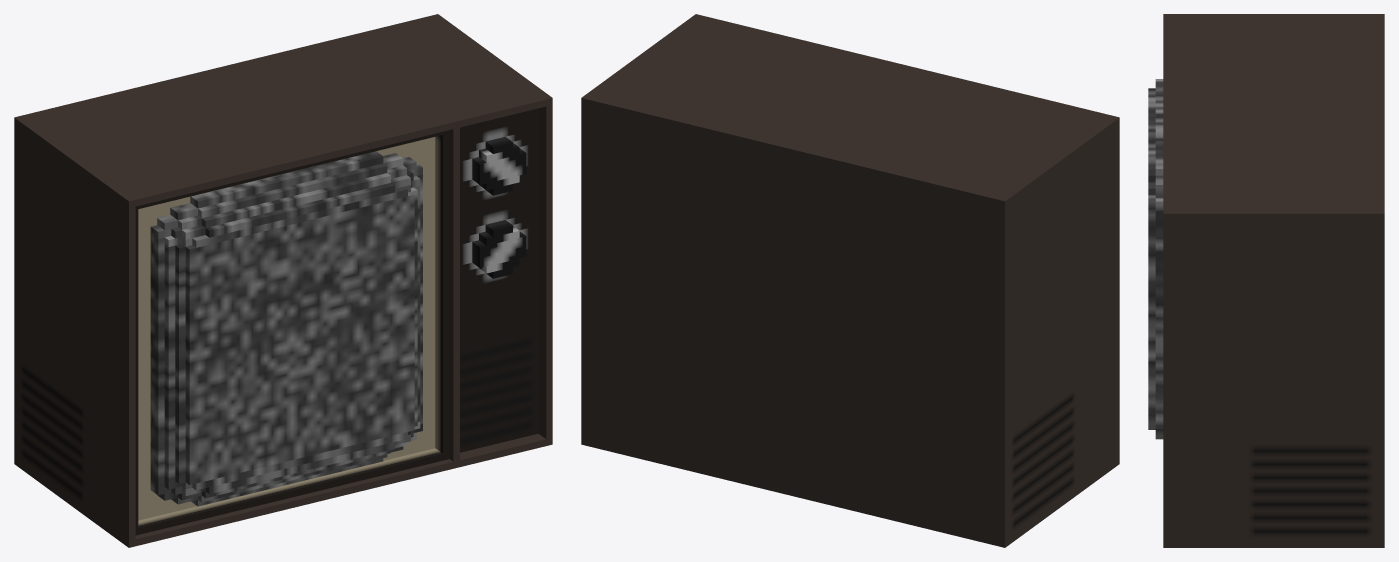
The model's file is TVExit.fbx.
3 renders of one model, left to right at view 1: azimuth 30°, elevation 25°; view 2: azimuth 150°, elevation 25°; view 3: azimuth 270°, elevation 25°, orthographic. The views are drawn at different scales.
Visible parts, largest first — view 1: TV01, TVScreen01; view 2: TV01; view 3: TV01, TVScreen01.
Part boxes in pixels (x1,y1,x2,y2): TV01: (14, 14, 552, 547); TVScreen01: (150, 151, 422, 506); TV01: (581, 14, 1119, 547); TV01: (1163, 14, 1384, 547); TVScreen01: (1148, 79, 1163, 439).
Size of the model in its own units: 64 by 50 by 32.
